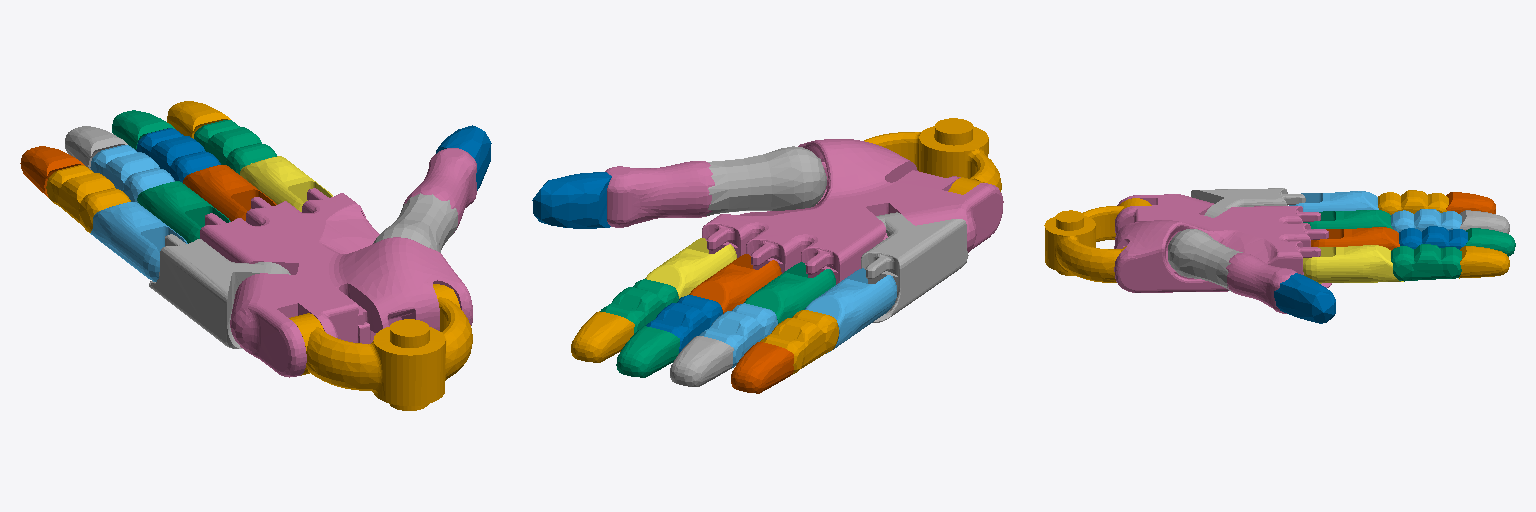
robot.urdf — shadow_hand:
<?xml version="1.0"?>
<robot name="shadow_hand">
  <joint name="joints_robot0_forearm" type="fixed">
    <origin xyz="0 -0.104745 -0.287302" rpy="0 0 0" />
    <!-- <origin xyz="-0. 0.287302 0.104745" rpy="0 0 0"/> -->
    <parent link="robot0_hand_mount" />
    <child link="root_robot0_forearm" />
  </joint>
  <joint name="robot0_FFJ0" type="revolute">
    <origin xyz="0. -0. 0.025" rpy="0. 0. 0." />
    <parent link="robot0_ffmiddle" />
    <child link="robot0_ffdistal" />
    <axis xyz="1. 0. 0." />
    <limit lower="0." upper="1.5709999" effort="0." velocity="0." />
  </joint>
  <joint name="robot0_FFJ1" type="revolute">
    <origin xyz="0. -0. 0.045" rpy="0. 0. 0." />
    <parent link="robot0_ffproximal" />
    <child link="robot0_ffmiddle" />
    <axis xyz="1. 0. 0." />
    <limit lower="0." upper="1.5709999" effort="0." velocity="0." />
  </joint>
  <joint name="robot0_FFJ2" type="revolute">
    <origin xyz="-0. 0. 0." rpy="0. 0. -1.5707961" />
    <parent link="robot0_ffknuckle" />
    <child link="robot0_ffproximal" />
    <axis xyz="1. 0. 0." />
    <limit lower="0." upper="1.5709999" effort="0." velocity="0." />
  </joint>
  <joint name="robot0_FFJ3" type="revolute">
    <origin xyz="0.033 -0. 0.095" rpy="-0. 0. 1.5707961" />
    <parent link="robot0_palm" />
    <child link="robot0_ffknuckle" />
    <axis xyz="1. 0. 0." />
    <limit lower="-0.349" upper="0.349" effort="0." velocity="0." />
  </joint>
  <joint name="robot0_LFJ0" type="revolute">
    <origin xyz="-0. 0.0000001 0.0249999" rpy="0. 0. 0." />
    <parent link="robot0_lfmiddle" />
    <child link="robot0_lfdistal" />
    <axis xyz="1. 0. 0." />
    <limit lower="0." upper="1.5709999" effort="0." velocity="0." />
  </joint>
  <joint name="robot0_LFJ1" type="revolute">
    <origin xyz="0. -0. 0.045" rpy="0. 0. 0." />
    <parent link="robot0_lfproximal" />
    <child link="robot0_lfmiddle" />
    <axis xyz="1. 0. 0." />
    <limit lower="0." upper="1.5709999" effort="0." velocity="0." />
  </joint>
  <joint name="robot0_LFJ2" type="revolute">
    <origin xyz="-0.0000001 0. 0. " rpy="0. 0. -1.5707961" />
    <parent link="robot0_lfknuckle" />
    <child link="robot0_lfproximal" />
    <axis xyz="1. 0. 0." />
    <limit lower="0." upper="1.5709999" effort="0." velocity="0." />
  </joint>
  <joint name="robot0_LFJ3" type="revolute">
    <origin xyz="0.0264159 -0. 0.0390794" rpy="0.9631015 0.0000001 1.5707963" />
    <parent link="robot0_lfmetacarpal" />
    <child link="robot0_lfknuckle" />
    <axis xyz="1. 0. 0." />
    <limit lower="-0.349" upper="0.349" effort="0." velocity="0." />
  </joint>
  <joint name="robot0_LFJ4" type="revolute">
    <origin xyz="-0.017 0. 0.044" rpy="0. -0.9631015 -0.0000001" />
    <parent link="robot0_palm" />
    <child link="robot0_lfmetacarpal" />
    <axis xyz="1. 0. 0." />
    <limit lower="0." upper="0.785" effort="0." velocity="0." />
  </joint>
  <joint name="robot0_MFJ0" type="revolute">
    <origin xyz="0. -0. 0.025" rpy="0. 0. 0." />
    <parent link="robot0_mfmiddle" />
    <child link="robot0_mfdistal" />
    <axis xyz="1. 0. 0." />
    <limit lower="0." upper="1.5709999" effort="0." velocity="0." />
  </joint>
  <joint name="robot0_MFJ1" type="revolute">
    <origin xyz="0. -0. 0.045" rpy="0. 0. 0." />
    <parent link="robot0_mfproximal" />
    <child link="robot0_mfmiddle" />
    <axis xyz="1. 0. 0." />
    <limit lower="0." upper="1.5709999" effort="0." velocity="0." />
  </joint>
  <joint name="robot0_MFJ2" type="revolute">
    <origin xyz="-0. 0. -0." rpy="0. 0. -1.5707961" />
    <parent link="robot0_mfknuckle" />
    <child link="robot0_mfproximal" />
    <axis xyz="1. 0. 0." />
    <limit lower="0." upper="1.5709999" effort="0." velocity="0." />
  </joint>
  <joint name="robot0_MFJ3" type="revolute">
    <origin xyz="0.011 0. 0.099" rpy="-0. 0. 1.5707961" />
    <parent link="robot0_palm" />
    <child link="robot0_mfknuckle" />
    <axis xyz="1. 0. 0." />
    <limit lower="-0.349" upper="0.349" effort="0." velocity="0." />
  </joint>
  <joint name="robot0_RFJ0" type="revolute">
    <origin xyz="-0. 0. 0.025" rpy="0. 0. 0." />
    <parent link="robot0_rfmiddle" />
    <child link="robot0_rfdistal" />
    <axis xyz="1. 0. 0." />
    <limit lower="0." upper="1.5709999" effort="0." velocity="0." />
  </joint>
  <joint name="robot0_RFJ1" type="revolute">
    <origin xyz="0. -0. 0.045" rpy="0. 0. 0." />
    <parent link="robot0_rfproximal" />
    <child link="robot0_rfmiddle" />
    <axis xyz="1. 0. 0." />
    <limit lower="0." upper="1.5709999" effort="0." velocity="0." />
  </joint>
  <joint name="robot0_RFJ2" type="revolute">
    <origin xyz="-0.0000001 -0. 0. " rpy="0. 0. -1.5707961" />
    <parent link="robot0_rfknuckle" />
    <child link="robot0_rfproximal" />
    <axis xyz="1. 0. 0." />
    <limit lower="0." upper="1.5709999" effort="0." velocity="0." />
  </joint>
  <joint name="robot0_RFJ3" type="revolute">
    <origin xyz="-0.011 -0. 0.095" rpy="-0. 0. 1.5707961" />
    <parent link="robot0_palm" />
    <child link="robot0_rfknuckle" />
    <axis xyz="1. 0. 0." />
    <limit lower="-0.349" upper="0.349" effort="0." velocity="0." />
  </joint>
  <joint name="robot0_THJ0" type="revolute">
    <origin xyz="-0. -0. 0.032" rpy="0. 0. 0." />
    <parent link="robot0_thmiddle" />
    <child link="robot0_thdistal" />
    <axis xyz="1. 0. 0." />
    <limit lower="-1.5709999" upper="0." effort="0." velocity="0." />
  </joint>
  <joint name="robot0_THJ1" type="revolute">
    <origin xyz="0. -0. 0." rpy="-0. 0. 1.5707961" />
    <parent link="robot0_thhub" />
    <child link="robot0_thmiddle" />
    <axis xyz="1. 0. 0." />
    <limit lower="-0.524" upper="0.524" effort="0." velocity="0." />
  </joint>
  <joint name="robot0_THJ2" type="revolute">
    <origin xyz="0. -0. 0.038" rpy="0. 0. 0." />
    <parent link="robot0_thproximal" />
    <child link="robot0_thhub" />
    <axis xyz="1. 0. 0." />
    <limit lower="-0.209" upper="0.209" effort="0." velocity="0." />
  </joint>
  <joint name="robot0_THJ3" type="revolute">
    <origin xyz="0. 0. -0." rpy="0. -1.5707963 0. " />
    <parent link="robot0_thbase" />
    <child link="robot0_thproximal" />
    <axis xyz="1. 0. 0." />
    <limit lower="0." upper="1.222" effort="0." velocity="0." />
  </joint>
  <joint name="robot0_THJ4" type="revolute">
    <origin xyz="0.034 -0.009 0.029" rpy="3.1415925 0.7857963 3.1415925" />
    <parent link="robot0_palm" />
    <child link="robot0_thbase" />
    <axis xyz="1. 0. 0." />
    <limit lower="-1.047" upper="1.047" effort="0." velocity="0." />
  </joint>
  <joint name="robot0_WRJ0" type="revolute">
    <origin xyz="0. -0. 0.034" rpy="0. 0. -1.5707961" />
    <parent link="robot0_wrist" />
    <child link="robot0_palm" />
    <axis xyz="1. 0. 0." />
    <limit lower="-0.698" upper="0.489" effort="0." velocity="17453.2925199" />
  </joint>
  <joint name="robot0_WRJ1" type="revolute">
    <origin xyz="0. 0. 0.2560001" rpy="-0.0001344 1.5506727 1.5706645" />
    <parent link="root_robot0_forearm" />
    <child link="robot0_wrist" />
    <axis xyz="1. 0. 0." />
    <limit lower="-0.489" upper="0.14" effort="0." velocity="17453.2925199" />
  </joint>
  <joint name="rootJoint" type="fixed">
    <origin xyz="0. 0. 0." rpy="0. 0. 0." />
    <parent link="root" />
    <child link="robot0_hand_mount" />
  </joint>
  <link name="robot0_ffdistal">
    <inertial>
      <origin xyz="0. 0. 0." rpy="0. 0. 0." />
      <mass value="0.01" />
      <inertia ixx="0." ixy="0." ixz="0." iyy="0." iyz="0." izz="0." />
    </inertial>
    <visual>
      <origin xyz="0. 0. 0.001" rpy="0. 0. 0." />
      <geometry>
        <mesh filename="meshes/robot0_V_lfdistal.obj" scale="1. 1. 1." />
      </geometry>
    </visual>
    <collision>
      <origin xyz="0. 0. 0.001" rpy="0. 0. 0." />
      <geometry>
        <mesh filename="meshes/col_robot0_V_lfdistal.obj" scale="1. 1. 1." />
      </geometry>
    </collision>
  </link>
  <link name="robot0_ffknuckle">
    <inertial>
      <origin xyz="0. 0. 0." rpy="0. 0. 0." />
      <mass value="0.008" />
      <inertia ixx="0." ixy="0." ixz="0." iyy="0." iyz="0." izz="0." />
    </inertial>
    <!-- <visual>
      <origin xyz="-0. 0. 0." rpy="0. 0. -1.5707961" />
      <geometry>
        <mesh filename="meshes/robot0_V_lfknuckle.obj" scale="1. 1. 1." />
      </geometry>
    </visual> -->
  </link>
  <link name="robot0_ffmiddle">
    <inertial>
      <origin xyz="0. 0. 0." rpy="0. 0. 0." />
      <mass value="0.012" />
      <inertia ixx="0." ixy="0." ixz="0." iyy="0." iyz="0." izz="0." />
    </inertial>
    <visual>
      <origin xyz="0. -0. -0." rpy="0. 0. 0." />
      <geometry>
        <mesh filename="meshes/robot0_V_lfmiddle.obj" scale="1. 1. 1." />
      </geometry>
    </visual>
  </link>
  <link name="robot0_ffproximal">
    <inertial>
      <origin xyz="0. 0. 0." rpy="0. 0. 0." />
      <mass value="0.014" />
      <inertia ixx="0." ixy="0." ixz="0." iyy="0." iyz="0." izz="0." />
    </inertial>
    <visual>
      <origin xyz="0. 0. 0." rpy="0. 0. 0." />
      <geometry>
        <mesh filename="meshes/robot0_V_lfproximal.obj" scale="1. 1. 1." />
      </geometry>
    </visual>
    <collision>
      <geometry>
        <mesh filename="meshes/col_robot0_V_lfproximal.obj" scale="1. 1. 1." />
      </geometry>
    </collision>
  </link>
  <link name="robot0_hand_mount">
    <inertial>
      <origin xyz="0. 0. 0." rpy="0. 0. 0." />
      <mass value="0.1" />
      <inertia ixx="0." ixy="0." ixz="0." iyy="0." iyz="0." izz="0." />
    </inertial>
  </link>
  <link name="robot0_lfdistal">
    <inertial>
      <origin xyz="0. 0. 0." rpy="0. 0. 0." />
      <mass value="0.01" />
      <inertia ixx="0." ixy="0." ixz="0." iyy="0." iyz="0." izz="0." />
    </inertial>
    <visual>
      <origin xyz="0. -0. 0.001" rpy="0. 0. 0." />
      <geometry>
        <mesh filename="meshes/robot0_V_lfdistal.obj" scale="1. 1. 1." />
      </geometry>
    </visual>

    <collision>
      <origin xyz="0. 0. 0.001" rpy="0. 0. 0." />
      <geometry>
        <mesh filename="meshes/col_robot0_V_lfdistal.obj" scale="1. 1. 1." />
      </geometry>
    </collision>
  </link>
  <link name="robot0_lfknuckle">
    <inertial>
      <origin xyz="0. 0. 0." rpy="0. 0. 0." />
      <mass value="0.008" />
      <inertia ixx="0." ixy="0." ixz="0." iyy="0." iyz="0." izz="0." />
    </inertial>
    <!-- <visual>
      <origin xyz="-0.0000001 0. 0. " rpy="0. 0. -1.5707961" />
      <geometry>
        <mesh filename="meshes/robot0_V_lfknuckle.obj" scale="1. 1. 1." />
      </geometry>
    </visual> -->
  </link>
  <link name="robot0_lfmetacarpal">
    <inertial>
      <origin xyz="0. 0. 0." rpy="0. 0. 0." />
      <mass value="0.075" />
      <inertia ixx="0." ixy="0." ixz="0." iyy="0." iyz="0." izz="0." />
    </inertial>
    <!-- <visual>
      <origin xyz="-0.0012114 -0. 0.0192557" rpy="0.0000001 0.9631015 0.0000001"/>
      <geometry>
        <box size="0.019 0.0222 0.05 "/>
      </geometry>
    </visual> -->
    <visual>
      <origin xyz="-0.0280179 -0. 0.000003 " rpy="0.0000001 0.9631015 0.0000001" />
      <geometry>
        <mesh filename="meshes/robot0_V_lfmetacarpal.obj" scale="1. 1. 1." />
      </geometry>
    </visual>
    <collision>
      <origin xyz="-0.0280179 -0. 0.000003 " rpy="0.0000001 0.9631015 0.0000001" />
      <geometry>
        <mesh filename="meshes/col_robot0_V_lfmetacarpal.obj" scale="1. 1. 1." />
      </geometry>
    </collision>
    <!-- <collision>
      <origin xyz="-0.0012114 -0. 0.0192557" rpy="0.0000001 0.9631015 0.0000001"/>
      <geometry>
        <box size="0.019 0.0222 0.05 "/>
      </geometry> -->
    <!-- </collision> -->
  </link>
  <link name="robot0_lfmiddle">
    <inertial>
      <origin xyz="0. 0. 0." rpy="0. 0. 0." />
      <mass value="0.012" />
      <inertia ixx="0." ixy="0." ixz="0." iyy="0." iyz="0." izz="0." />
    </inertial>
    <visual>
      <origin xyz="-0. 0.0000001 -0.0000001" rpy="0. 0. 0." />
      <geometry>
        <mesh filename="meshes/robot0_V_lfmiddle.obj" scale="1. 1. 1." />
      </geometry>
    </visual>
  </link>
  <link name="robot0_lfproximal">
    <inertial>
      <origin xyz="0. 0. 0." rpy="0. 0. 0." />
      <mass value="0.014" />
      <inertia ixx="0." ixy="0." ixz="0." iyy="0." iyz="0." izz="0." />
    </inertial>
    <visual>
      <origin xyz="0. 0. 0." rpy="0. 0. 0." />
      <geometry>
        <mesh filename="meshes/robot0_V_lfproximal.obj" scale="1. 1. 1." />
      </geometry>
    </visual>
    <collision>
      <geometry>
        <mesh filename="meshes/col_robot0_V_lfproximal.obj" scale="1. 1. 1." />
      </geometry>
    </collision>
  </link>
  <link name="robot0_mfdistal">
    <inertial>
      <origin xyz="0. 0. 0." rpy="0. 0. 0." />
      <mass value="0.01" />
      <inertia ixx="0." ixy="0." ixz="0." iyy="0." iyz="0." izz="0." />
    </inertial>
    <visual>
      <origin xyz="0. 0. 0." rpy="0. 0. 0." />
      <geometry>
        <mesh filename="meshes/robot0_V_lfdistal.obj" scale="1. 1. 1." />
      </geometry>
    </visual>

    <collision>
      <origin xyz="0. 0. 0.00" rpy="0. 0. 0." />
      <geometry>
        <mesh filename="meshes/col_robot0_V_lfdistal.obj" scale="1. 1. 1." />
      </geometry>
    </collision>
  </link>
  <link name="robot0_mfknuckle">
    <inertial>
      <origin xyz="0. 0. 0." rpy="0. 0. 0." />
      <mass value="0.008" />
      <inertia ixx="0." ixy="0." ixz="0." iyy="0." iyz="0." izz="0." />
    </inertial>
    <!-- <visual>
      <origin xyz="-0. 0. -0." rpy="0. 0. -1.5707961" />
      <geometry>
        <mesh filename="meshes/robot0_V_lfknuckle.obj" scale="1. 1. 1." />
      </geometry>
    </visual> -->
  </link>
  <link name="robot0_mfmiddle">
    <inertial>
      <origin xyz="0. 0. 0." rpy="0. 0. 0." />
      <mass value="0.012" />
      <inertia ixx="0." ixy="0." ixz="0." iyy="0." iyz="0." izz="0." />
    </inertial>
    <visual>
      <origin xyz="0. -0. 0." rpy="0. 0. 0." />
      <geometry>
        <mesh filename="meshes/robot0_V_lfmiddle.obj" scale="1. 1. 1." />
      </geometry>
    </visual>
  </link>
  <link name="robot0_mfproximal">
    <inertial>
      <origin xyz="0. 0. 0." rpy="0. 0. 0." />
      <mass value="0.014" />
      <inertia ixx="0." ixy="0." ixz="0." iyy="0." iyz="0." izz="0." />
    </inertial>
    <visual>
      <origin xyz="0. 0. 0." rpy="0. 0. 0." />
      <geometry>
        <mesh filename="meshes/robot0_V_lfproximal.obj" scale="1. 1. 1." />
      </geometry>
      <!-- <collision>
      <geometry><mesh filename  ="meshes/col_robot0_V_lfproximal.obj" scale="1. 1. 1."/></geometry>
      </collision> -->
    </visual>
    <collision>
      <geometry>
        <mesh filename="meshes/col_robot0_V_lfproximal.obj" scale="1. 1. 1." />
      </geometry>
    </collision>
  </link>
  <link name="robot0_palm">
    <inertial>
      <origin xyz="0. 0. 0." rpy="0. 0. 0." />
      <mass value="0.3" />
      <inertia ixx="0." ixy="0." ixz="0." iyy="0." iyz="0." izz="0." />
    </inertial>
    <!-- <visual>
      <origin xyz="-0.032 0. 0.014" rpy="0. 0. 0."/>
      <geometry>
        <box size="0.022 0.0222 0.05 "/>
      </geometry>
    </visual> -->
    <visual>
      <origin xyz="0. 0. 0." rpy="0. 0. 0." />
      <geometry>
        <mesh filename="meshes/robot0_V_palm.obj" scale="1. 1. 1." />
      </geometry>
    </visual>
     <collision>
      <geometry>
        <mesh filename="meshes/col_robot0_V_palm.obj" scale="1. 1. 1." />
      </geometry>
    </collision>
    <!--
    <collision>
      <origin xyz="-0.032 0. 0.014" rpy="0. 0. 0."/>
      <geometry>
        <box size="0.022 0.0222 0.05 "/>
      </geometry>
    </collision> -->
  </link>
  <link name="robot0_rfdistal">
    <inertial>
      <origin xyz="0. 0. 0." rpy="0. 0. 0." />
      <mass value="0.01" />
      <inertia ixx="0." ixy="0." ixz="0." iyy="0." iyz="0." izz="0." />
    </inertial>
    <visual>
      <origin xyz="0. 0. 0.001" rpy="0. 0. 0." />
      <geometry>
        <mesh filename="meshes/robot0_V_lfdistal.obj" scale="1. 1. 1." />
      </geometry>
    </visual>

    <collision>
      <origin xyz="0. 0. 0.001" rpy="0. 0. 0." />
      <geometry>
        <mesh filename="meshes/col_robot0_V_lfdistal.obj" scale="1. 1. 1." />
      </geometry>
    </collision>




  </link>
  <link name="robot0_rfknuckle">
    <inertial>
      <origin xyz="0. 0. 0." rpy="0. 0. 0." />
      <mass value="0.008" />
      <inertia ixx="0." ixy="0." ixz="0." iyy="0." iyz="0." izz="0." />
    </inertial>
    <!-- <visual>
      <origin xyz="-0.0000001 -0. 0. " rpy="0. 0. -1.5707961" />
      <geometry>
        <mesh filename="meshes/robot0_V_lfknuckle.obj" scale="1. 1. 1." />
      </geometry>
    </visual> -->
  </link>
  <link name="robot0_rfmiddle">
    <inertial>
      <origin xyz="0. 0. 0." rpy="0. 0. 0." />
      <mass value="0.012" />
      <inertia ixx="0." ixy="0." ixz="0." iyy="0." iyz="0." izz="0." />
    </inertial>
    <visual>
      <origin xyz="-0. 0. -0." rpy="0. 0. 0." />
      <geometry>
        <mesh filename="meshes/robot0_V_lfmiddle.obj" scale="1. 1. 1." />
      </geometry>
    </visual>
  </link>
  <link name="robot0_rfproximal">
    <inertial>
      <origin xyz="0. 0. 0." rpy="0. 0. 0." />
      <mass value="0.014" />
      <inertia ixx="0." ixy="0." ixz="0." iyy="0." iyz="0." izz="0." />
    </inertial>
    <visual>
      <origin xyz="0. 0. 0." rpy="0. 0. 0." />
      <geometry>
        <mesh filename="meshes/robot0_V_lfproximal.obj" scale="1. 1. 1." />
      </geometry>
    </visual>
    <collision>
      <geometry>
        <mesh filename="meshes/col_robot0_V_lfproximal.obj" scale="1. 1. 1." />
      </geometry>
    </collision>
  </link>
  <link name="robot0_thbase">
    <inertial>
      <origin xyz="0. 0. 0." rpy="0. 0. 0." />
      <mass value="0.01" />
      <inertia ixx="0." ixy="0." ixz="0." iyy="0." iyz="0." izz="0." />
    </inertial>
    <!--     
    <visual>
      <origin xyz="0. 0. -0." rpy="0. -1.5707963 0. "/>
      <geometry>
        <box size="0.002 0.002 0.002"/>
      </geometry>
    </visual>
    <collision>
      <origin xyz="0. 0. -0." rpy="0. -1.5707963 0. "/>
      <geometry>
        <box size="0.002 0.002 0.002"/>
      </geometry>
    </collision> -->
  </link>
  <link name="robot0_thdistal">
    <inertial>
      <origin xyz="0. 0. 0." rpy="0. 0. 0." />
      <mass value="0.016" />
      <inertia ixx="0." ixy="0." ixz="0." iyy="0." iyz="0." izz="0." />
    </inertial>
    <visual>
      <origin xyz="-0. 0. 0.0000001" rpy="0. 0. -1.5707961" />
      <geometry>
        <mesh filename="meshes/robot0_V_thdistal.obj" scale="1. 1. 1." />
      </geometry>
    </visual>
    <collision>
      
      <origin xyz="-0. 0. 0.0000001" rpy="0. 0. -1.5707961" />
      <geometry>
        <mesh filename="meshes/col_robot0_V_thdistal.obj" scale="1. 1. 1." />
      </geometry>
   </collision>
  </link>
  <link name="robot0_thhub">
    <inertial>
      <origin xyz="0. 0. 0." rpy="0. 0. 0." />
      <mass value="0.002" />
      <inertia ixx="0." ixy="0." ixz="0." iyy="0." iyz="0." izz="0." />
    </inertial>
    <!-- <visual>
      <origin xyz="0. -0. 0." rpy="0. 0. 0."/>
      <geometry>
        <box size="0.002 0.002 0.002"/>
      </geometry>
    </visual>
    <collision>
      <origin xyz="0. -0. 0." rpy="0. 0. 0."/>
      <geometry>
        <box size="0.002 0.002 0.002"/>
      </geometry>
    </collision> -->
  </link>
  <link name="robot0_thmiddle">
    <inertial>
      <origin xyz="0. 0. 0." rpy="0. 0. 0." />
      <mass value="0.016" />
      <inertia ixx="0." ixy="0." ixz="0." iyy="0." iyz="0." izz="0." />
    </inertial>
    <visual>
      <origin xyz="0. 0. 0." rpy="0. 0. -1.5707961" />
      <geometry>
        <mesh filename="meshes/robot0_V_thmiddle.obj" scale="1. 1. 1." />
      </geometry>
    </visual>
  </link>
  <link name="robot0_thproximal">
    <inertial>
      <origin xyz="0. 0. 0." rpy="0. 0. 0." />
      <mass value="0.016" />
      <inertia ixx="0." ixy="0." ixz="0." iyy="0." iyz="0." izz="0." />
    </inertial>
    <visual>
      <origin xyz="0. 0. 0." rpy="0. 0. 0." />
      <geometry>
        <mesh filename="meshes/robot0_V_thproximal.obj" scale="1. 1. 1." />
      </geometry>
    </visual>
  </link>
  <link name="robot0_wrist">
    <inertial>
      <origin xyz="0. 0. 0." rpy="0. 0. 0." />
      <mass value="0.3" />
      <inertia ixx="0." ixy="0." ixz="0." iyy="0." iyz="0." izz="0." />
    </inertial>
    <visual>
      <origin xyz="0. 0. -0." rpy="0. 0. -1.5707961" />
      <geometry>
        <mesh filename="meshes/robot0_V_wrist.obj" scale="1. 1. 1." />
      </geometry>
    </visual>
    <collision>
      <origin xyz="0. 0. -0." rpy="0. 0. -1.5707961" />
      <geometry>
        <mesh filename="meshes/col_robot0_V_wrist.obj" scale="1. 1. 1." />
      </geometry>
    </collision>
  </link>
  <link name="root" />
  <link name="root_robot0_forearm">
    <inertial>
      <origin xyz="0. 0. 0." rpy="0. 0. 0." />
      <mass value="4." />
      <inertia ixx="0." ixy="0." ixz="0." iyy="0." iyz="0." izz="0." />
    </inertial>
    <!--     
    <visual>
      <origin xyz="0.0000006 -0.2157551 0.2416556" rpy="-0.039669 1.5506567 1.5311217"/>
      <geometry>
        <mesh filename="meshes/robot0_C_forearm.obj" scale="1. 1. 1."/>
      </geometry>
    </visual>
    <visual>
      <origin xyz="0.0000006 -0.2157551 0.2416556" rpy="-0.039669 1.5506567 1.5311217"/>
      <geometry>
        <mesh filename="meshes/robot0_V_forearm.obj" scale="1. 1. 1."/>
      </geometry>
    </visual>
    <collision>
      <origin xyz="0.0000006 -0.2157551 0.2416556" rpy="-0.039669 1.5506567 1.5311217"/>
      <geometry>
        <mesh filename="meshes/robot0_C_forearm.obj" scale="1. 1. 1."/>
      </geometry>
    </collision> -->
  </link>
</robot>

--- What the picture shows (computed from the rendered views, not written in the file) ---
3 views of the same robot in one strip: view 1: azimuth 30°, elevation 25°; view 2: azimuth 150°, elevation 25°; view 3: azimuth 270°, elevation 25° (orthographic).
Model shadow_hand with 27 links and 26 joints (24 revolute, 2 fixed), rooted at root, posed every joint at zero.
Visible links, largest first — view 1: robot0_palm, robot0_wrist, robot0_lfmetacarpal, robot0_lfproximal, robot0_lfmiddle, robot0_rfproximal, robot0_thproximal, robot0_thmiddle, robot0_rfmiddle, robot0_mfproximal, robot0_mfmiddle, robot0_ffproximal (+6 smaller); view 2: robot0_palm, robot0_lfmetacarpal, robot0_thproximal, robot0_thmiddle, robot0_wrist, robot0_thdistal, robot0_lfproximal, robot0_lfmiddle, robot0_rfproximal, robot0_mfproximal, robot0_ffproximal, robot0_rfmiddle (+6 smaller); view 3: robot0_palm, robot0_wrist, robot0_ffproximal, robot0_thproximal, robot0_ffmiddle, robot0_thmiddle, robot0_thdistal, robot0_lfmetacarpal, robot0_mfproximal, robot0_lfproximal, robot0_ffdistal, robot0_rfproximal (+6 smaller).
Boxes of the visible links, <box> form: robot0_palm: <box>200,188,472,377</box>; robot0_wrist: <box>289,284,472,410</box>; robot0_lfmetacarpal: <box>149,234,290,348</box>; robot0_lfproximal: <box>90,202,187,281</box>; robot0_lfmiddle: <box>46,165,130,232</box>; robot0_rfproximal: <box>137,181,230,243</box>; robot0_thproximal: <box>373,193,457,252</box>; robot0_thmiddle: <box>403,148,476,232</box>; robot0_rfmiddle: <box>90,145,174,202</box>; robot0_mfproximal: <box>183,165,276,221</box>; robot0_mfmiddle: <box>136,128,220,182</box>; robot0_ffproximal: <box>240,156,332,211</box>; robot0_palm: <box>702,139,1003,284</box>; robot0_lfmetacarpal: <box>861,212,968,322</box>; robot0_thproximal: <box>706,146,826,215</box>; robot0_thmiddle: <box>605,161,714,227</box>; robot0_wrist: <box>864,118,1001,194</box>; robot0_thdistal: <box>532,172,611,228</box>; robot0_lfproximal: <box>805,268,896,353</box>; robot0_lfmiddle: <box>760,310,838,374</box>; robot0_rfproximal: <box>744,262,835,323</box>; robot0_mfproximal: <box>689,254,781,313</box>; robot0_ffproximal: <box>645,238,736,298</box>; robot0_rfmiddle: <box>699,303,777,368</box>; robot0_palm: <box>1114,194,1331,292</box>; robot0_wrist: <box>1044,198,1151,282</box>; robot0_ffproximal: <box>1303,245,1403,283</box>; robot0_thproximal: <box>1168,229,1242,291</box>; robot0_ffmiddle: <box>1391,244,1461,281</box>; robot0_thmiddle: <box>1226,253,1296,313</box>; robot0_thdistal: <box>1274,273,1335,323</box>; robot0_lfmetacarpal: <box>1191,188,1305,217</box>; robot0_mfproximal: <box>1311,227,1399,250</box>; robot0_lfproximal: <box>1289,191,1378,211</box>; robot0_ffdistal: <box>1459,246,1509,278</box>; robot0_rfproximal: <box>1303,210,1392,228</box>.
Size in the robot's own frame: 0.1548 by 0.2461 by 0.0395 metres.
18 mesh visuals loaded from 9 distinct referenced files (9 OBJ).